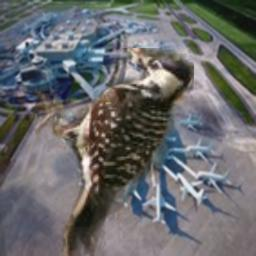Woodpecker: (35, 48, 194, 256)
